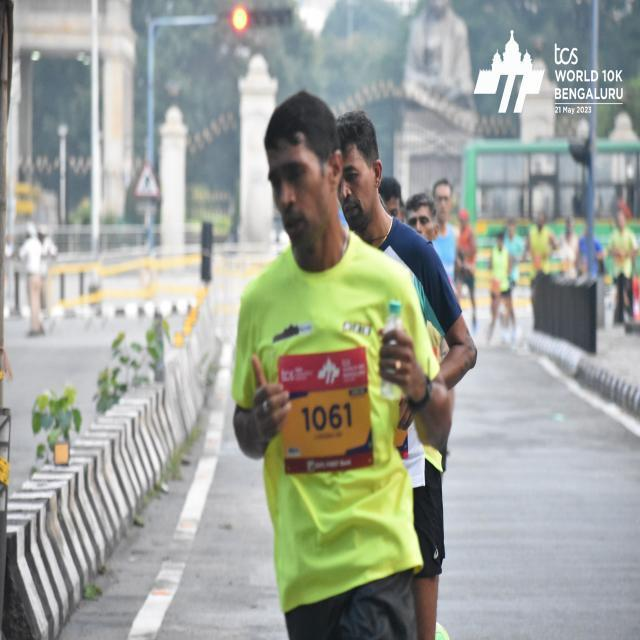dorsal: (276, 350, 372, 468)
